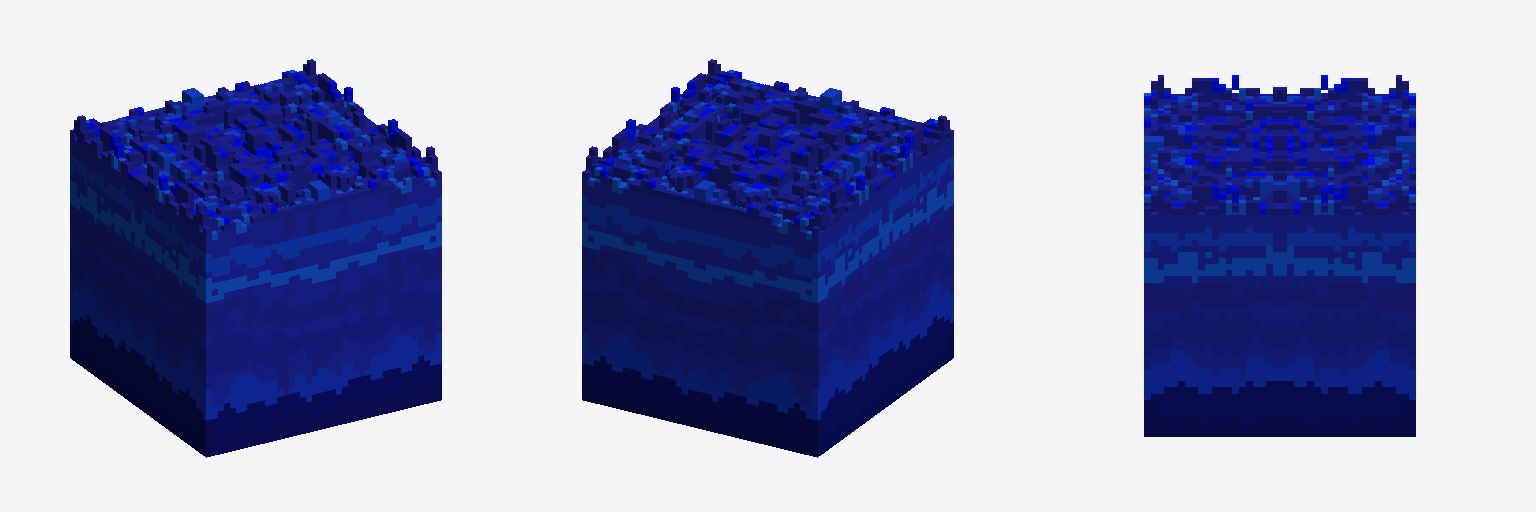
The picture shows the model from 3 angles: view 1: azimuth 30°, elevation 25°; view 2: azimuth 150°, elevation 25°; view 3: azimuth 270°, elevation 25°; orthographic projection.
Parts seen in each view (by area): view 1: object 1; view 2: object 1; view 3: object 1.
Boxes of the visible parts, x1=… form: object 1: x1=70, y1=59, x2=441, y2=457; object 1: x1=582, y1=59, x2=953, y2=457; object 1: x1=1144, y1=75, x2=1415, y2=436.
Bounding box in the file's own units: 4 × 4 × 4.
Materials: 1 (1 with a texture image).